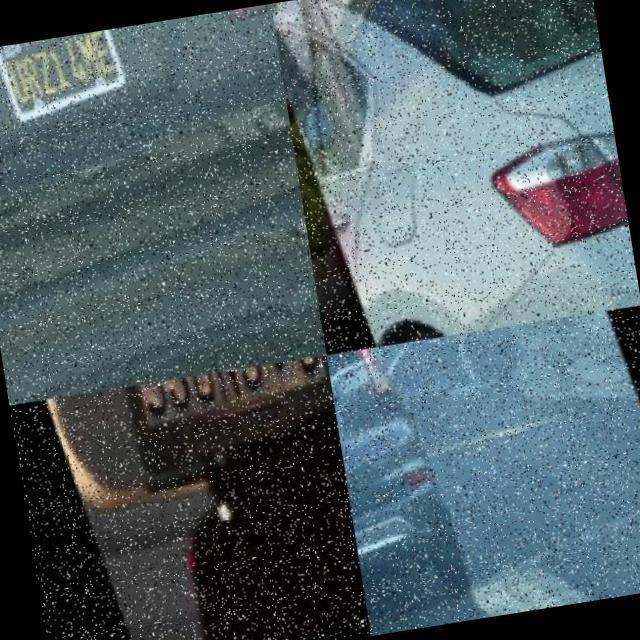License Plate: (126, 355, 341, 489), (0, 28, 132, 136), (335, 404, 369, 460), (435, 337, 445, 343)
